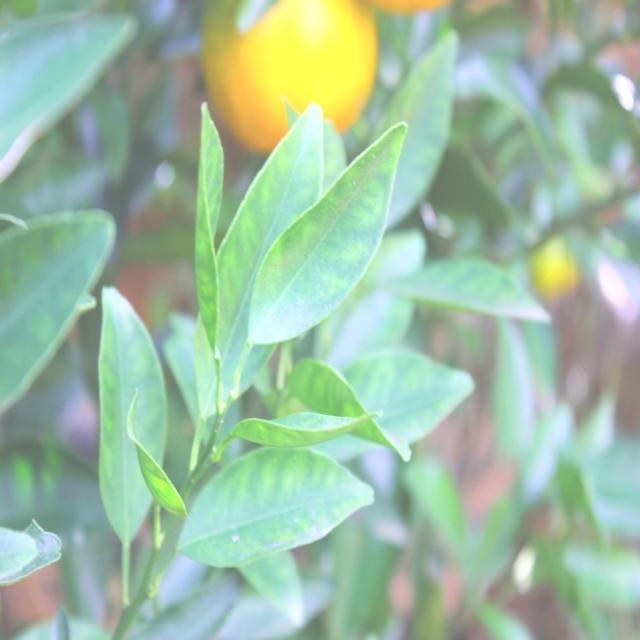greening: (254, 129, 404, 342), (196, 100, 225, 356)
